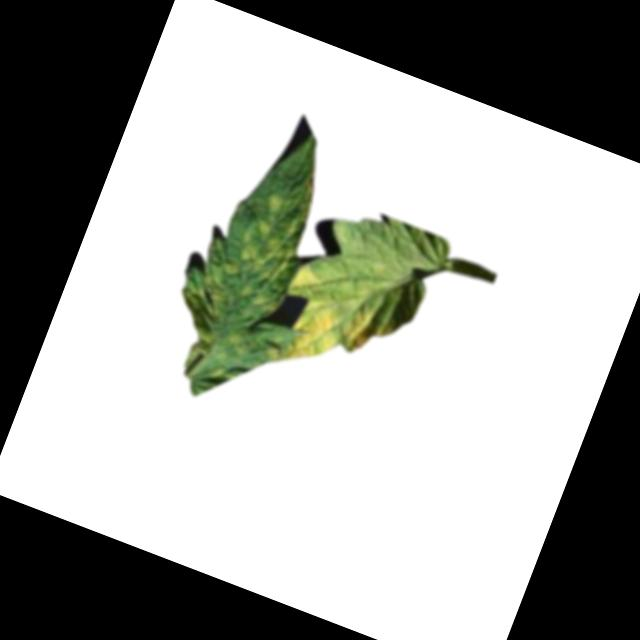Leaf_Mold: (194, 146, 330, 318), (262, 255, 405, 398), (156, 265, 241, 378)
